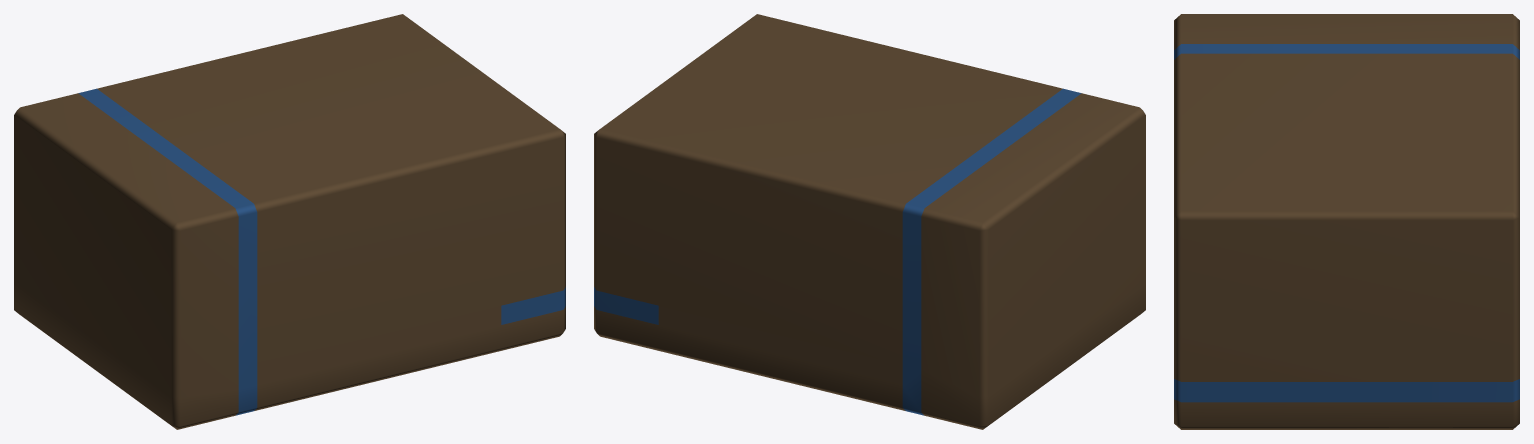
File: CardBoard_1.fbx
3 renders of one model, left to right at view 1: azimuth 30°, elevation 25°; view 2: azimuth 150°, elevation 25°; view 3: azimuth 270°, elevation 25°, orthographic. The views are drawn at different scales.
Visible parts, largest first — view 1: CardBoard_1; view 2: CardBoard_1; view 3: CardBoard_1.
Boxes of the visible parts, x1=… form: CardBoard_1: x1=14, y1=14, x2=565, y2=429; CardBoard_1: x1=594, y1=14, x2=1145, y2=429; CardBoard_1: x1=1174, y1=14, x2=1519, y2=429.
Bounding box in the file's own units: 62.58 × 31.45 × 45.03.
